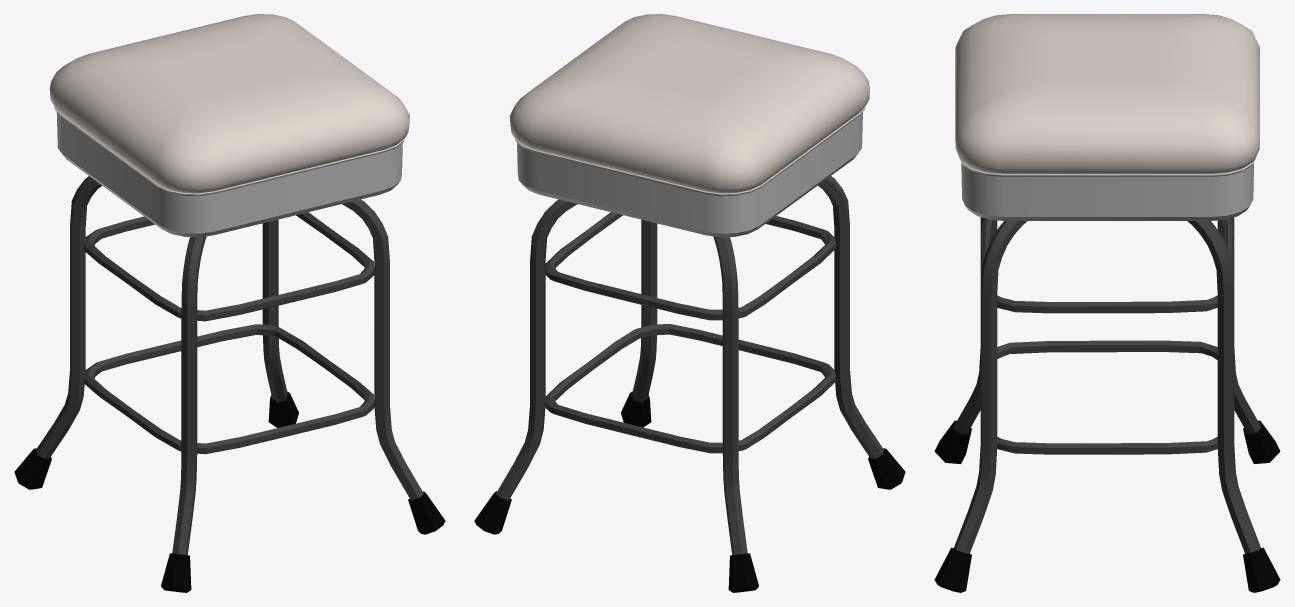
Rendered from stool-3.fbx.
3 views of the same model, side by side, from view 1: azimuth 30°, elevation 25°; view 2: azimuth 150°, elevation 25°; view 3: azimuth 270°, elevation 25° (orthographic). The views are drawn at different scales.
Visible parts, largest first — view 1: stool-3; view 2: stool-3; view 3: stool-3.
Part boxes in pixels (<box>): stool-3: <box>14,14,445,592</box>; stool-3: <box>474,14,905,592</box>; stool-3: <box>934,14,1280,592</box>.
Size of the model in its own units: 38.98 by 58.55 by 39.04.
Materials: 4 (3 with a texture image).
